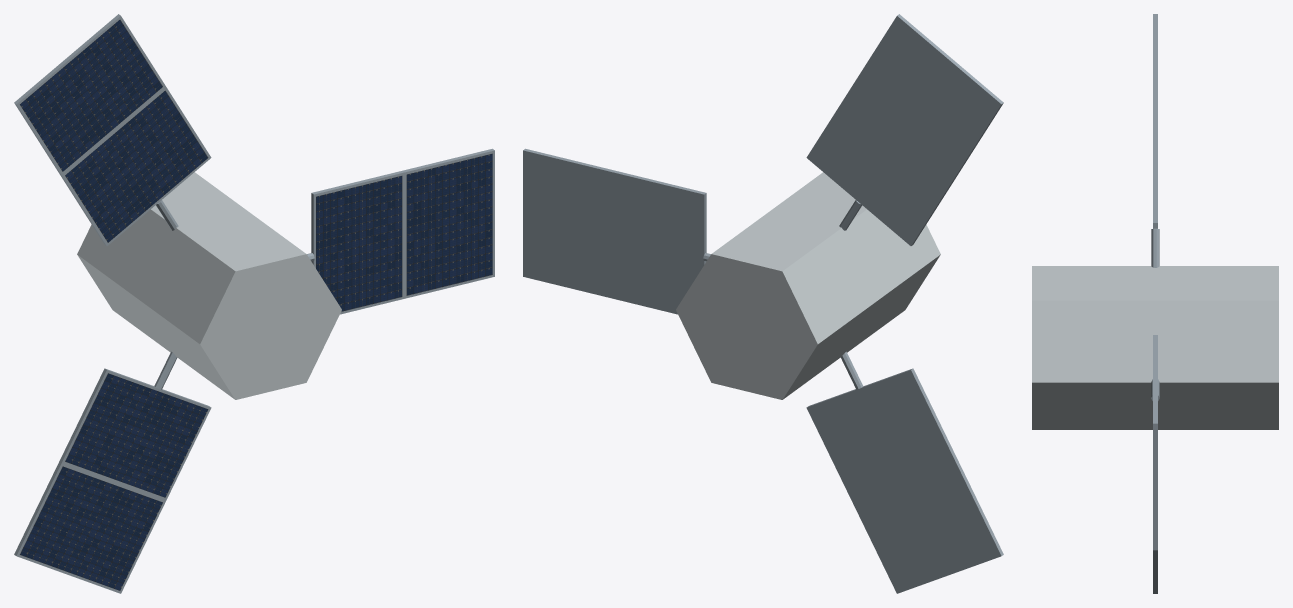
The model's file is ref-bj3b-53587.glb.
3 views of the same model, side by side, from view 1: azimuth 30°, elevation 25°; view 2: azimuth 150°, elevation 25°; view 3: azimuth 270°, elevation 25° (orthographic).
Parts seen in each view (by area): view 1: Photovoltaic laminates (×6), Spacecraft body, Array frame (×6); view 2: Array frame (×6), Spacecraft body; view 3: Spacecraft body, Array frame (×3), Solar array drive.
Boxes of the visible parts, bbox=[...] form: Photovoltaic laminates (×6): bbox=[20, 19, 492, 590]; Spacecraft body: bbox=[77, 172, 341, 399]; Array frame (×6): bbox=[14, 14, 494, 593]; Array frame (×6): bbox=[523, 14, 1003, 593]; Spacecraft body: bbox=[676, 172, 940, 399]; Spacecraft body: bbox=[1032, 266, 1278, 429]; Array frame (×3): bbox=[1153, 14, 1157, 550]; Solar array drive: bbox=[1151, 228, 1159, 267].
Bounding box in the file's own units: 6.74 × 7.78 × 3.
3 materials, 1 textured.
